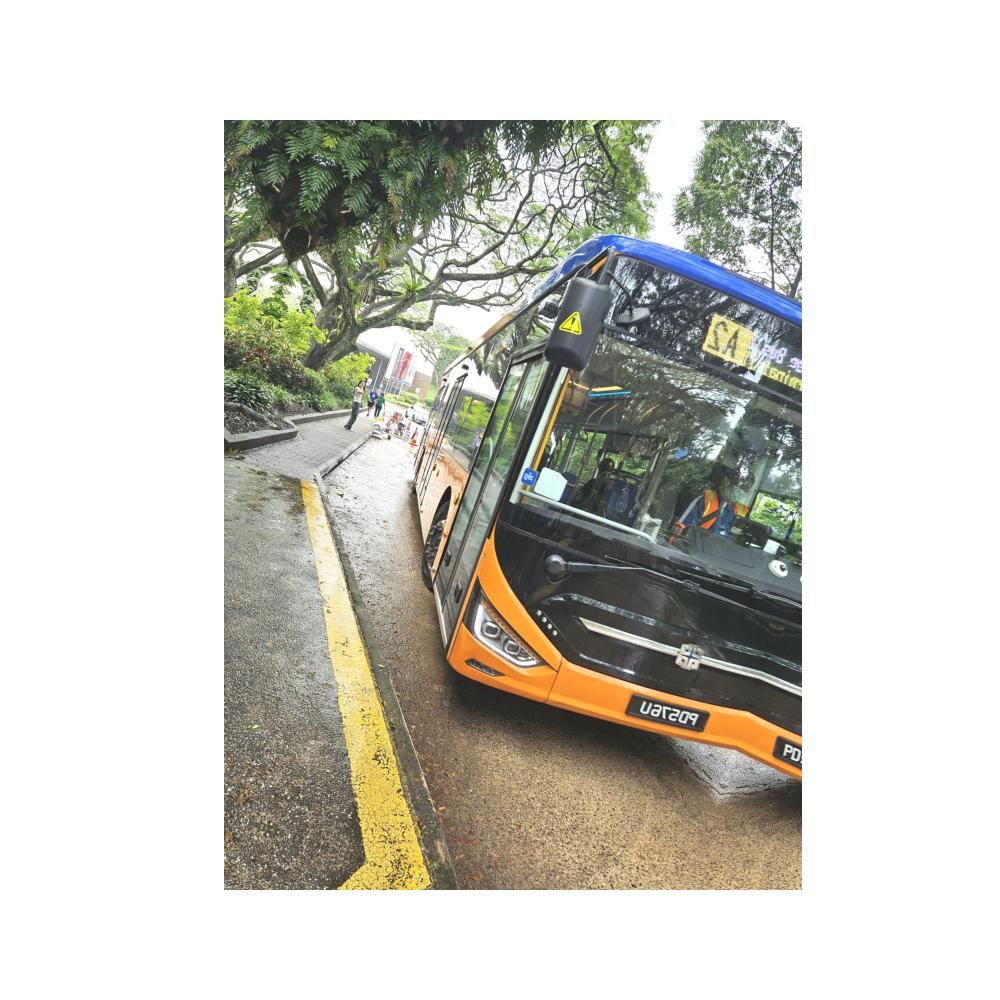bus: (407, 231, 798, 787)
